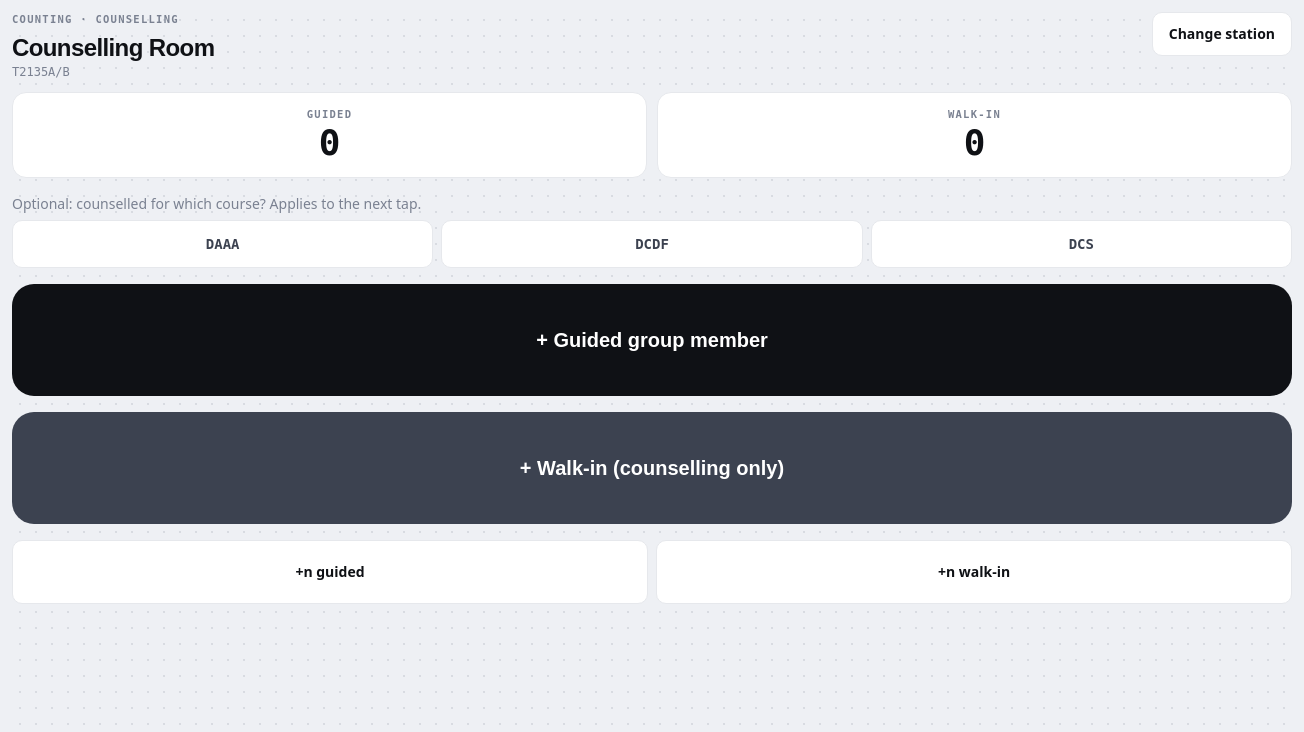
Footfall screens › FR-FOOT-3/4: counselling splits guided and walk-in; the course tag is optional
This screenshot has width=1304, height=732.
Check: the heading "Counselling Room" is shown, box left=12, top=32, right=214, bottom=64
Check: the text with test id "guided-total" reads "0", box left=319, top=122, right=340, bottom=162
Step 1. Click the button "+ Guided group member" → [652, 340], box left=12, top=284, right=1292, bottom=396
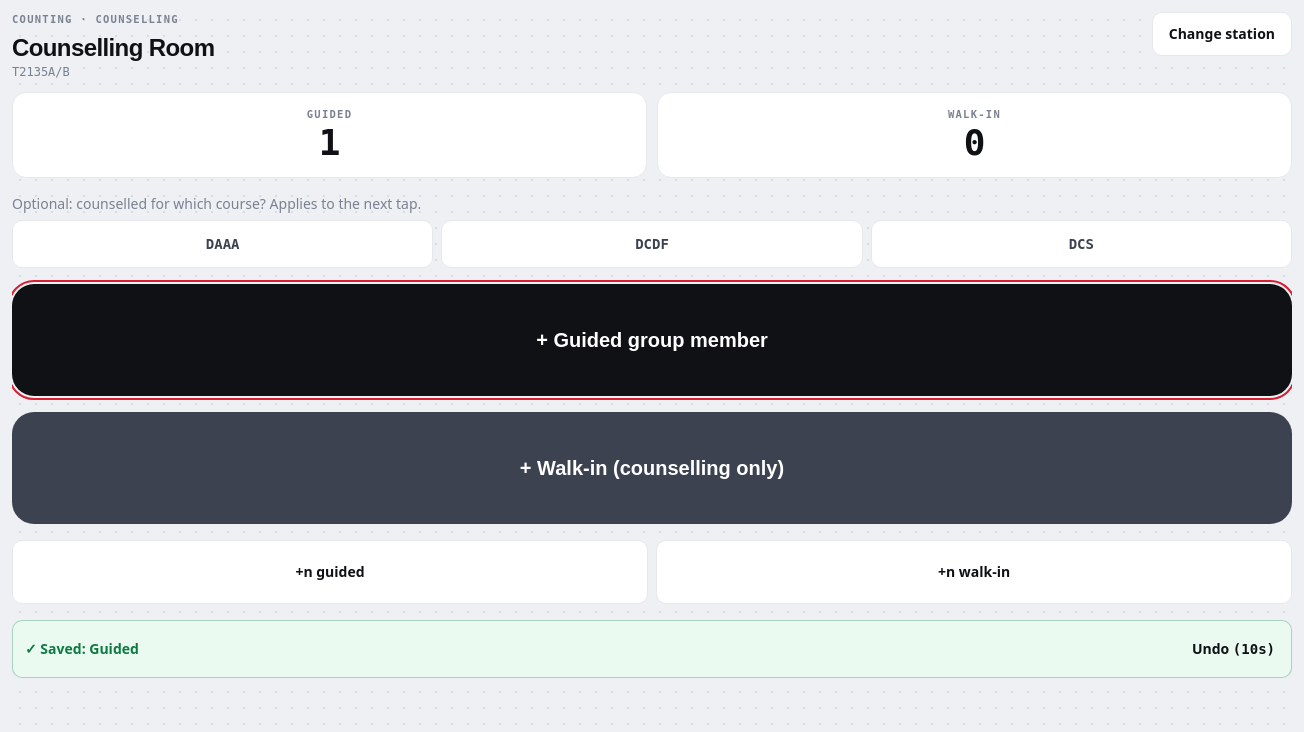
Step 2. Click the button "DAAA" → [223, 244], box left=12, top=220, right=433, bottom=268
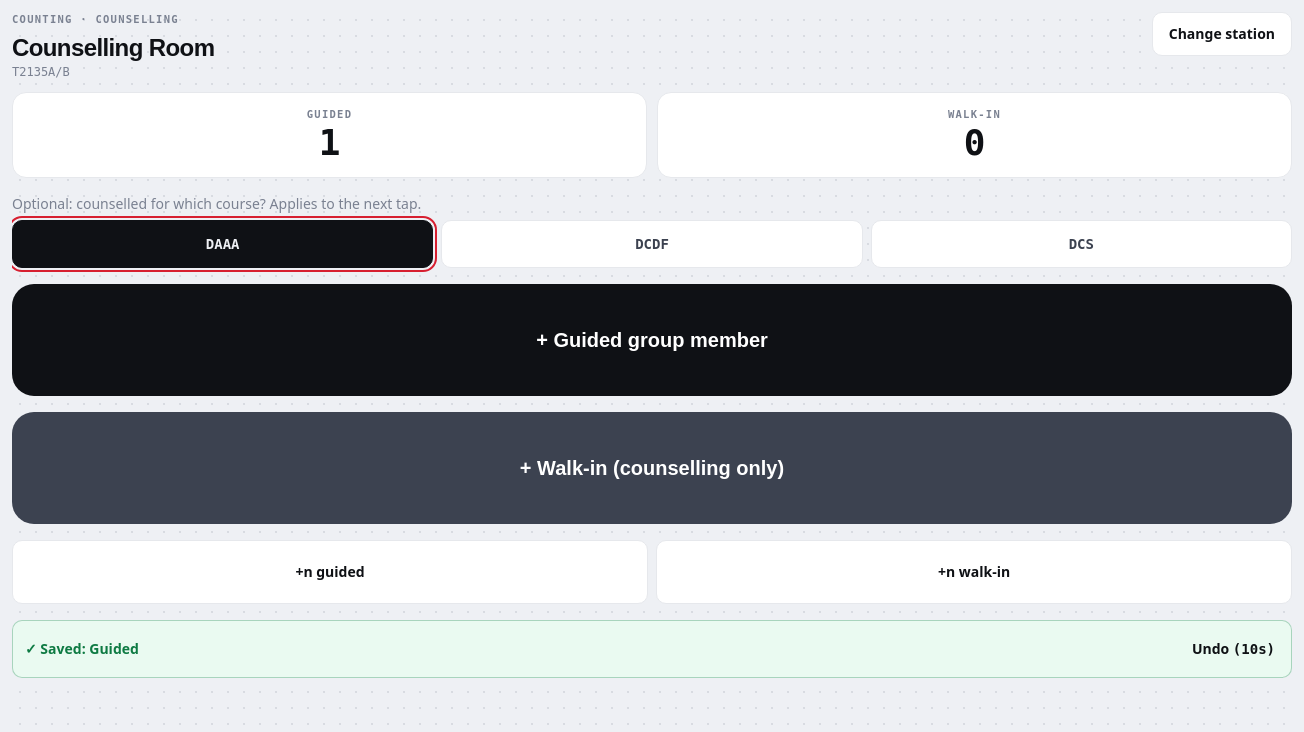
Check: the button "DAAA" is pressed, box left=12, top=220, right=433, bottom=268
Step 3. Click the button "+ Walk-in (counselling only)" → [652, 468], box left=12, top=412, right=1292, bottom=524
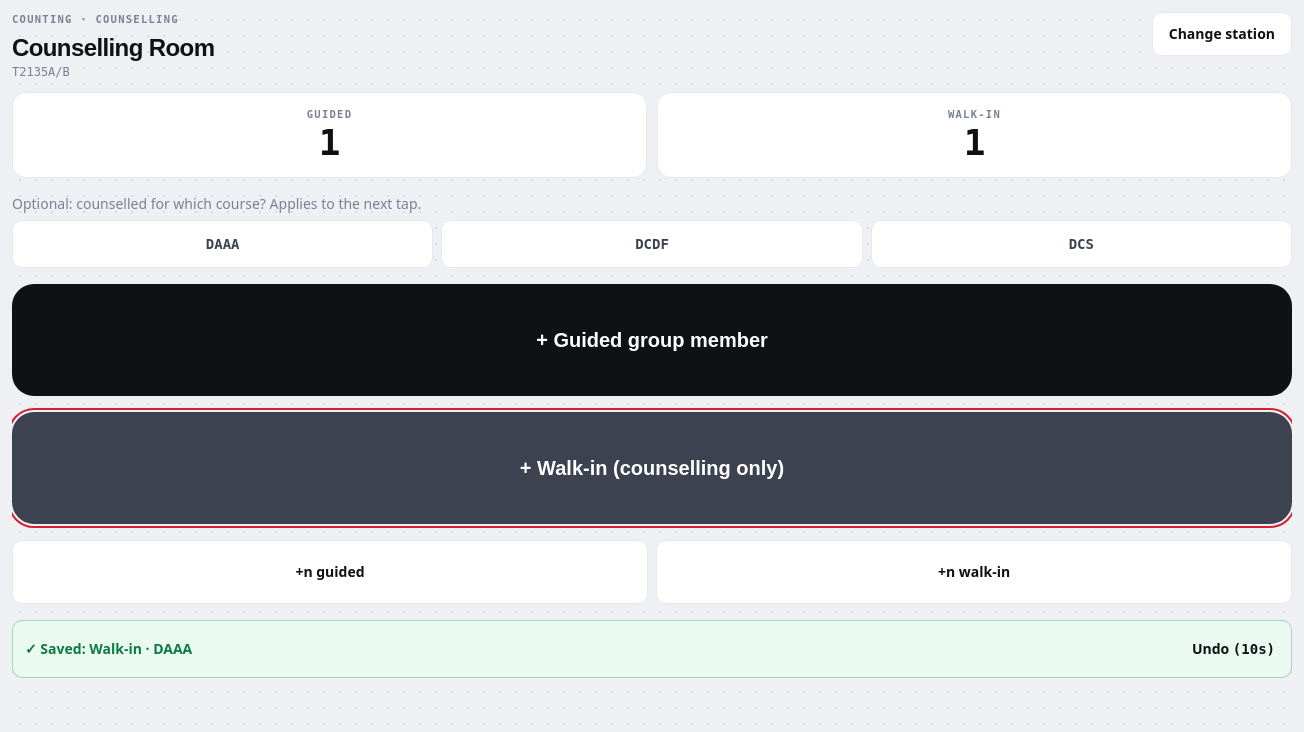
Check: the button "DAAA" is not pressed, box left=12, top=220, right=433, bottom=268
Step 4. Click the button "+ Walk-in (counselling only)" → [652, 468], box left=12, top=412, right=1292, bottom=524
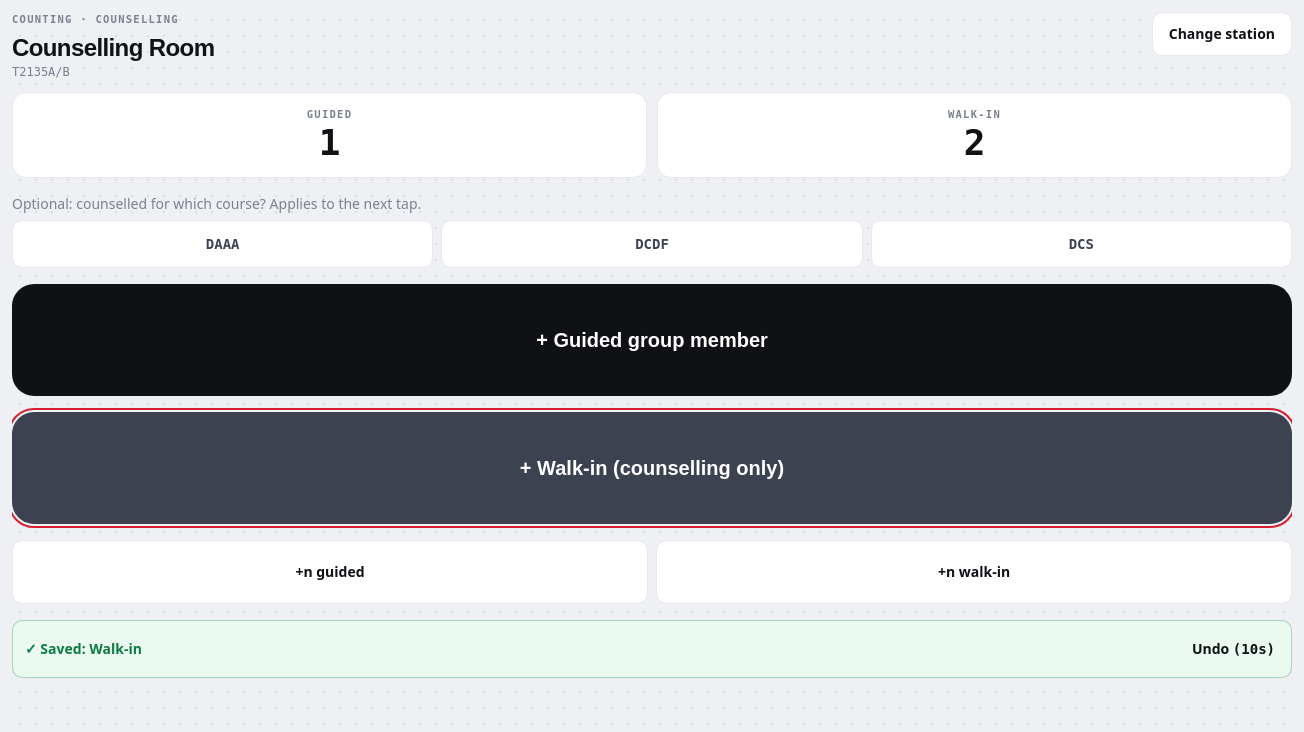
Check: the text with test id "guided-total" reads "1", box left=319, top=122, right=340, bottom=162
Check: the text with test id "walkin-total" reads "2", box left=964, top=122, right=985, bottom=162
